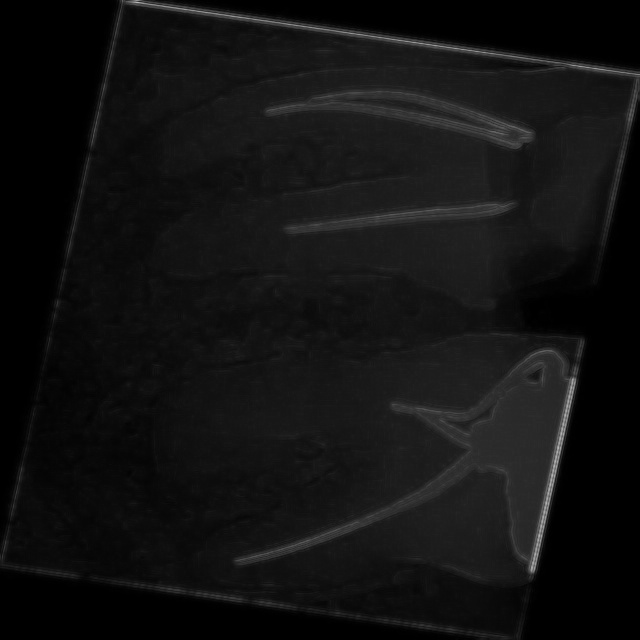Class 2- incomplete endodontic treatment: (107, 6, 627, 359), (123, 262, 585, 640)
